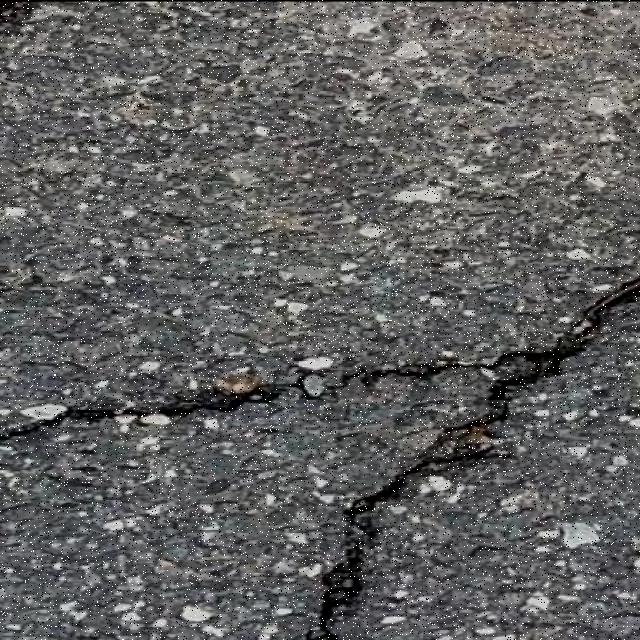Crack: (308, 272, 640, 640), (1, 388, 279, 440), (1, 0, 29, 34)
